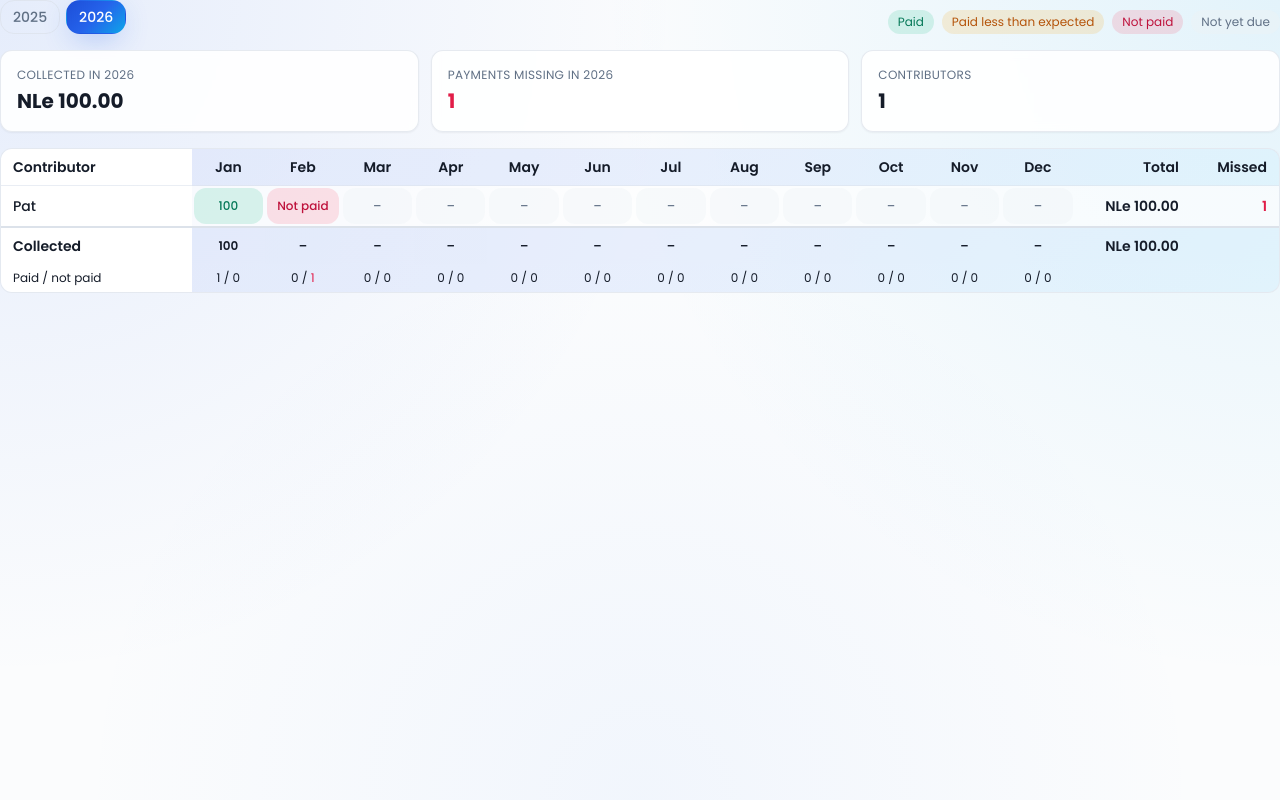
Test: the monthly tracker › shows a past, recorded payment as read-only, with no way to change or remove it
The width and height of the screenshot is (1280, 800).
Click the button named "Pat, January 2026: NLe 100.00" at (228, 206), box [194,188,263,224]
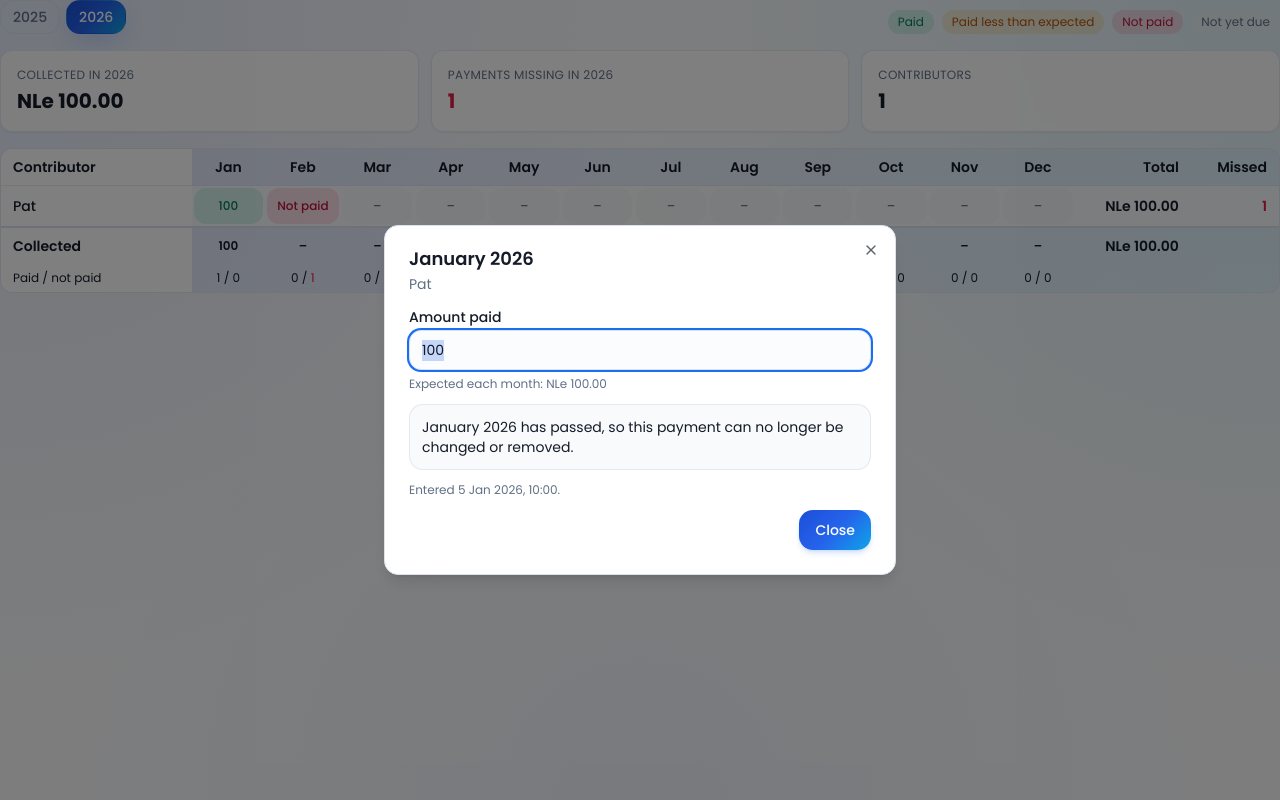
Now the text "January 2026 has passed, so this payment can no longer be changed or removed." is shown, box [409,404,871,470]
